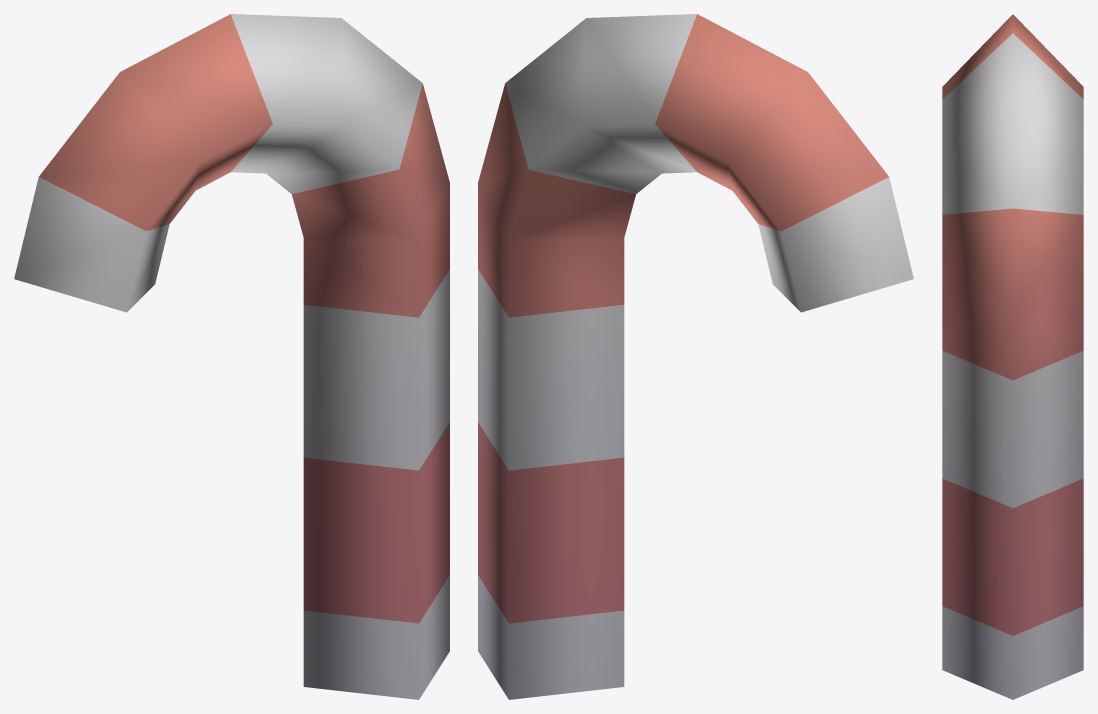
The model's file is candy_cane.glb.
3 views of the same model, side by side, from view 1: azimuth 30°, elevation 25°; view 2: azimuth 150°, elevation 25°; view 3: azimuth 270°, elevation 25° (orthographic). The views are drawn at different scales.
Parts seen in each view (by area): view 1: candy_cane; view 2: candy_cane; view 3: candy_cane.
Boxes of the visible parts, left/top/right/bottom form: candy_cane: left=14, top=14, right=449, bottom=699; candy_cane: left=478, top=14, right=913, bottom=699; candy_cane: left=942, top=14, right=1083, bottom=699.
Size of the model in its own units: 6.6 by 10 by 2.21.
